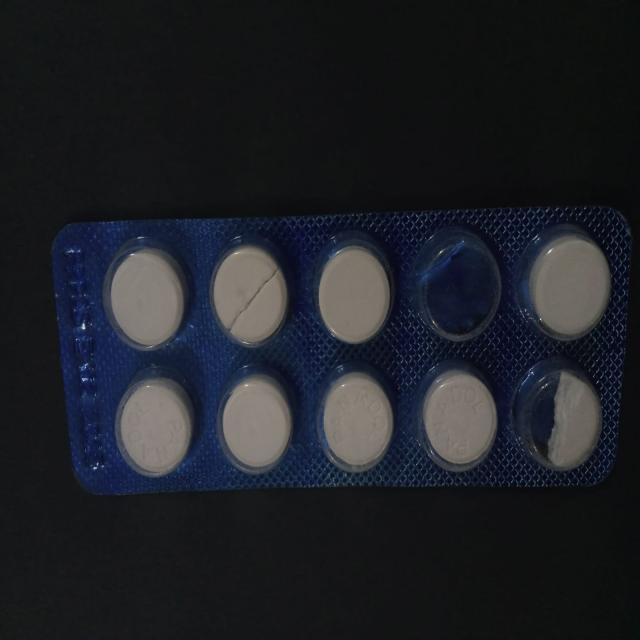defect: (509, 350, 611, 480), (409, 224, 505, 348), (207, 234, 294, 352)
